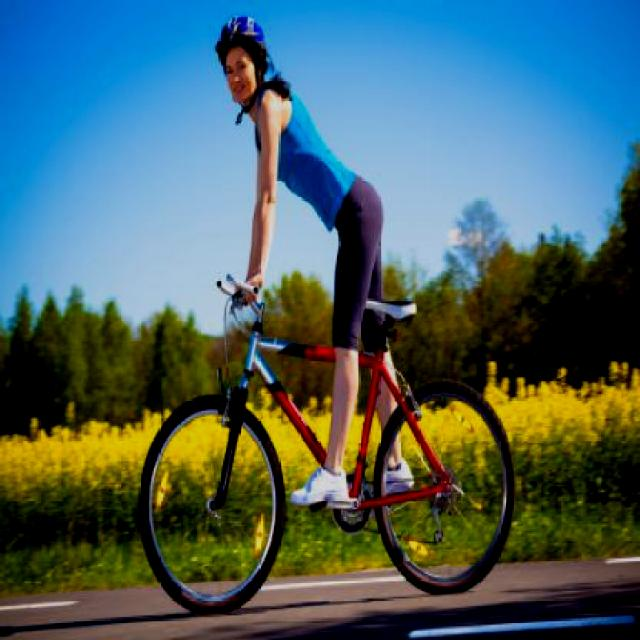With Helmet: (212, 8, 274, 112)
